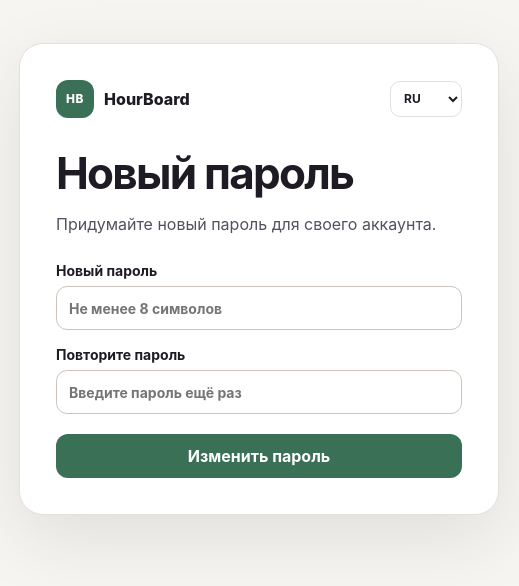
Test: UpdatePasswordPage › validates matching passwords
This screenshot has width=519, height=586.
Type "password123" into the password field labelled "Новый пароль" at (259, 308), box [56,286,462,330]
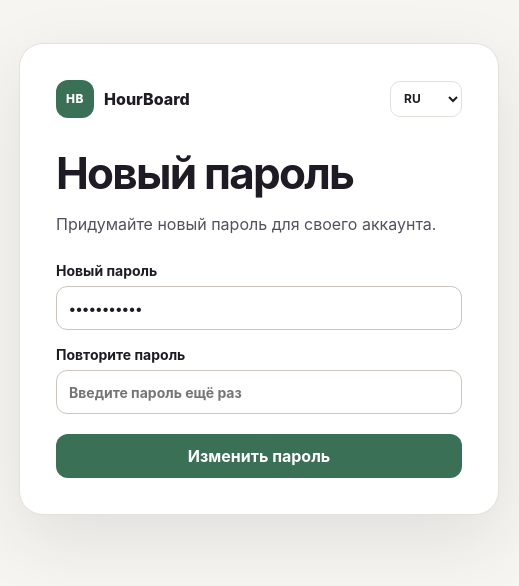
Type "different123" into the password field labelled "Повторите пароль" at (259, 392), box [56,370,462,414]
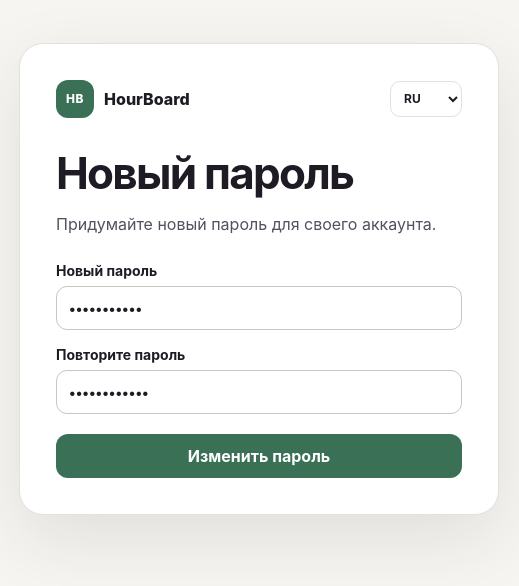
Click the button "Изменить пароль" at (259, 456), box [56,434,462,478]
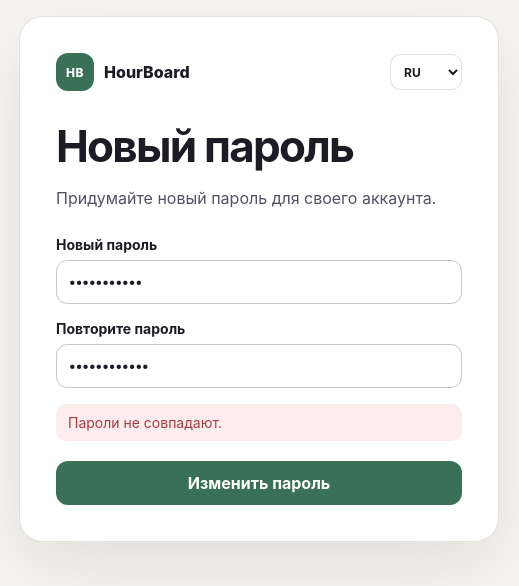
Expected: the message reads "Пароли не совпадают.", [68,414,222,431]
